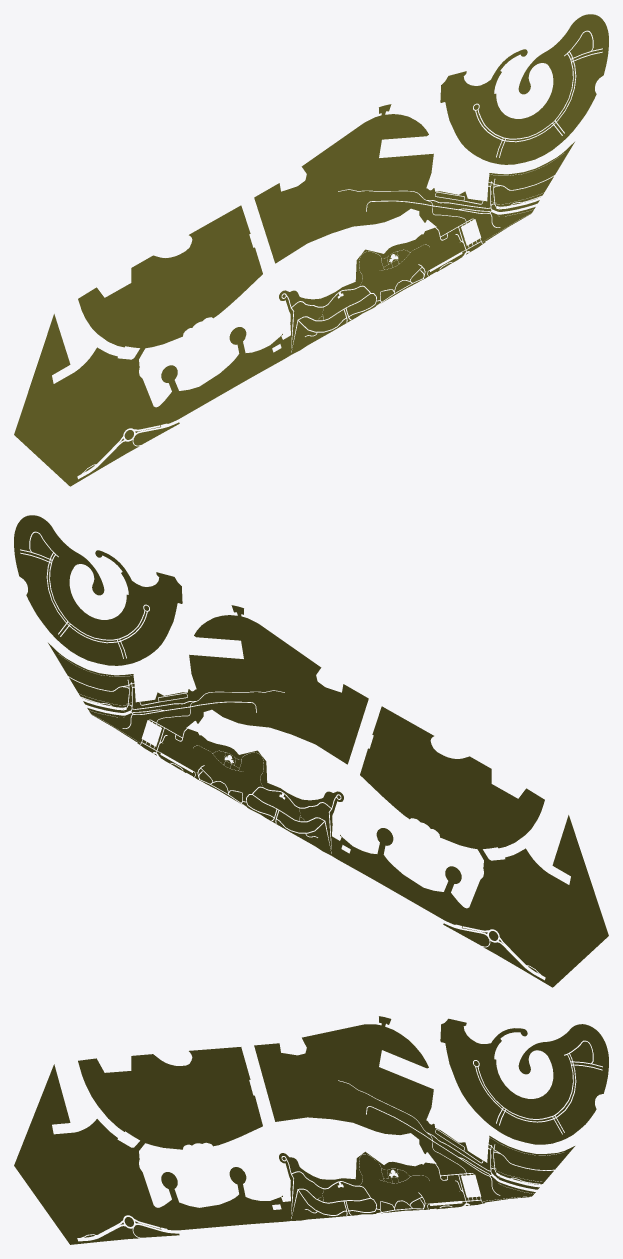
The model's file is beaches.obj.
The picture shows the model from 3 angles, top to bottom: view 1: azimuth 30°, elevation 25°; view 2: azimuth 150°, elevation 25°; view 3: azimuth 330°, elevation 25°; orthographic projection.
Parts seen in each view (by area): view 1: SurfaceArea985, SurfaceArea_جزيرة_الرميلة, SurfaceArea954, SurfaceArea1001, SurfaceArea1004, SurfaceArea_جزيرة_اللسيلي; view 2: SurfaceArea985, SurfaceArea_جزيرة_الرميلة, SurfaceArea954, SurfaceArea1001, SurfaceArea1004, SurfaceArea_جزيرة_اللسيلي; view 3: SurfaceArea985, SurfaceArea_جزيرة_الرميلة, SurfaceArea954, SurfaceArea1001, SurfaceArea1004, SurfaceArea_جزيرة_اللسيلي.
Boxes of the visible parts, <box> form: SurfaceArea985: <box>254,104,574,263</box>; SurfaceArea_جزيرة_الرميلة: <box>78,205,262,348</box>; SurfaceArea954: <box>154,213,485,425</box>; SurfaceArea1001: <box>440,14,608,164</box>; SurfaceArea1004: <box>14,347,179,486</box>; SurfaceArea_جزيرة_اللسيلي: <box>14,314,70,434</box>; SurfaceArea985: <box>48,605,368,764</box>; SurfaceArea_جزيرة_الرميلة: <box>360,706,544,849</box>; SurfaceArea954: <box>137,714,468,926</box>; SurfaceArea1001: <box>14,515,182,665</box>; SurfaceArea1004: <box>443,848,608,987</box>; SurfaceArea_جزيرة_اللسيلي: <box>552,815,608,935</box>; SurfaceArea985: <box>254,1016,574,1202</box>; SurfaceArea_جزيرة_الرميلة: <box>78,1047,262,1149</box>; SurfaceArea954: <box>154,1151,485,1230</box>; SurfaceArea1001: <box>440,1018,608,1144</box>; SurfaceArea1004: <box>14,1119,179,1244</box>; SurfaceArea_جزيرة_اللسيلي: <box>14,1064,70,1165</box>.
Bounding box in the file's own units: 2616 × 1454 × 0.6001.
